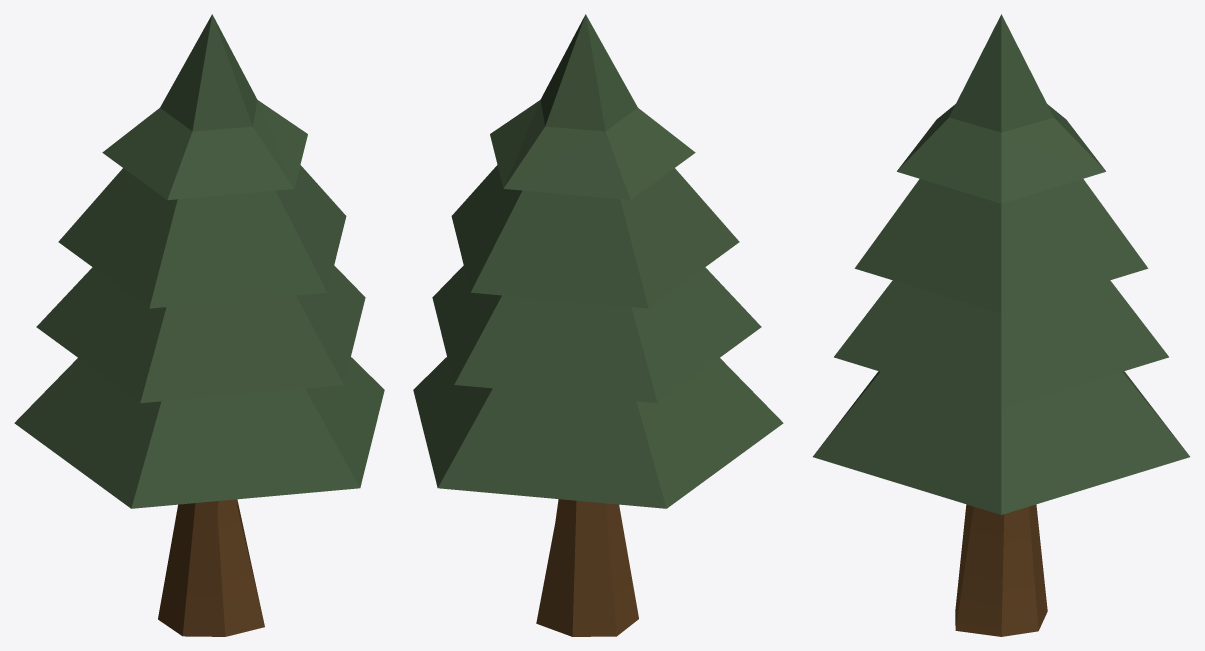
Rendered from Tree_1a.fbx.
3 renders of one model, left to right at view 1: azimuth 30°, elevation 25°; view 2: azimuth 150°, elevation 25°; view 3: azimuth 270°, elevation 25°, orthographic.
Visible parts, largest first — view 1: polySurface2, polySurface1, polySurface4, polySurface5, polySurface3; view 2: polySurface2, polySurface1, polySurface4, polySurface5, polySurface3; view 3: polySurface2, polySurface1, polySurface4, polySurface5, polySurface3.
Boxes of the visible parts, <box> form: polySurface2: <box>14,357,384,508</box>; polySurface1: <box>36,265,365,403</box>; polySurface4: <box>58,165,346,308</box>; polySurface5: <box>102,14,307,200</box>; polySurface3: <box>158,499,264,636</box>; polySurface2: <box>413,357,783,508</box>; polySurface1: <box>432,265,761,403</box>; polySurface4: <box>451,165,739,308</box>; polySurface5: <box>490,14,695,200</box>; polySurface3: <box>536,499,638,636</box>; polySurface2: <box>813,371,1189,514</box>; polySurface1: <box>834,280,1168,408</box>; polySurface4: <box>854,179,1148,313</box>; polySurface5: <box>897,14,1105,203</box>; polySurface3: <box>955,504,1047,636</box>.
Bounding box in the file's own units: 2.77 × 5.12 × 2.91.
